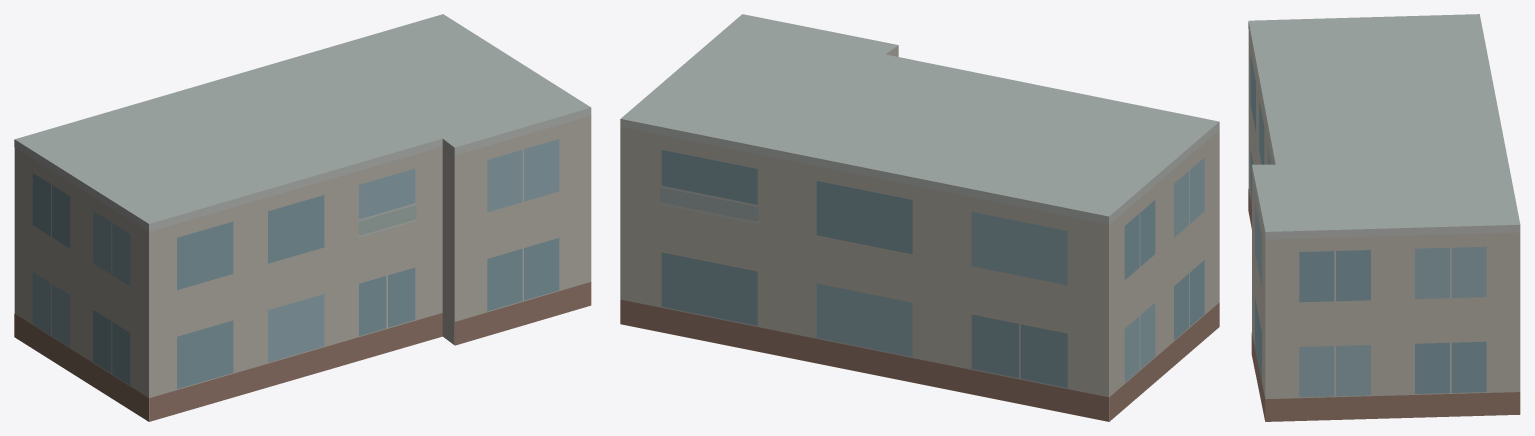
The model's file is survey-upis-32804747.glb.
The picture shows the model from 3 angles, left to right: view 1: azimuth 30°, elevation 25°; view 2: azimuth 150°, elevation 25°; view 3: azimuth 270°, elevation 25°; orthographic projection. The views are drawn at different scales.
Parts seen in each view (by area): view 1: survey-upis-32804747.tmp; view 2: survey-upis-32804747.tmp; view 3: survey-upis-32804747.tmp.
Boxes of the visible parts, x1,y1,x2,y2 form: survey-upis-32804747.tmp: [14, 14, 591, 421]; survey-upis-32804747.tmp: [620, 14, 1219, 421]; survey-upis-32804747.tmp: [1248, 14, 1520, 421].
Bounding box in the file's own units: 15.02 × 6.1 × 7.93.
